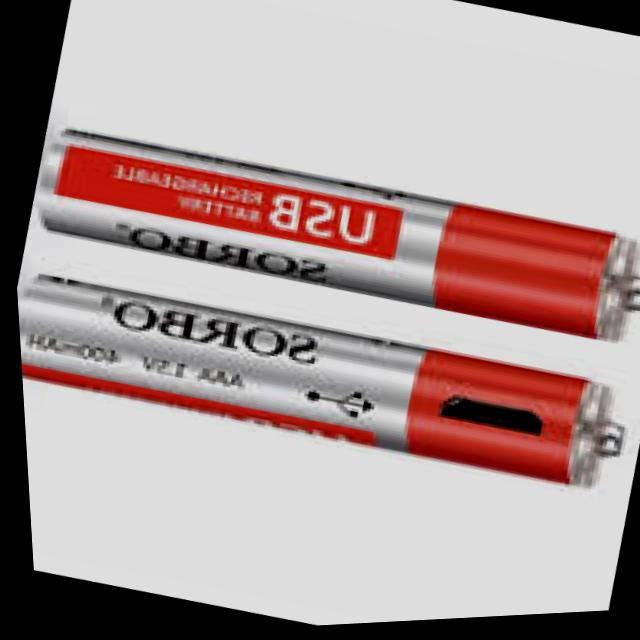B3: (12, 227, 640, 554), (15, 78, 640, 394)
